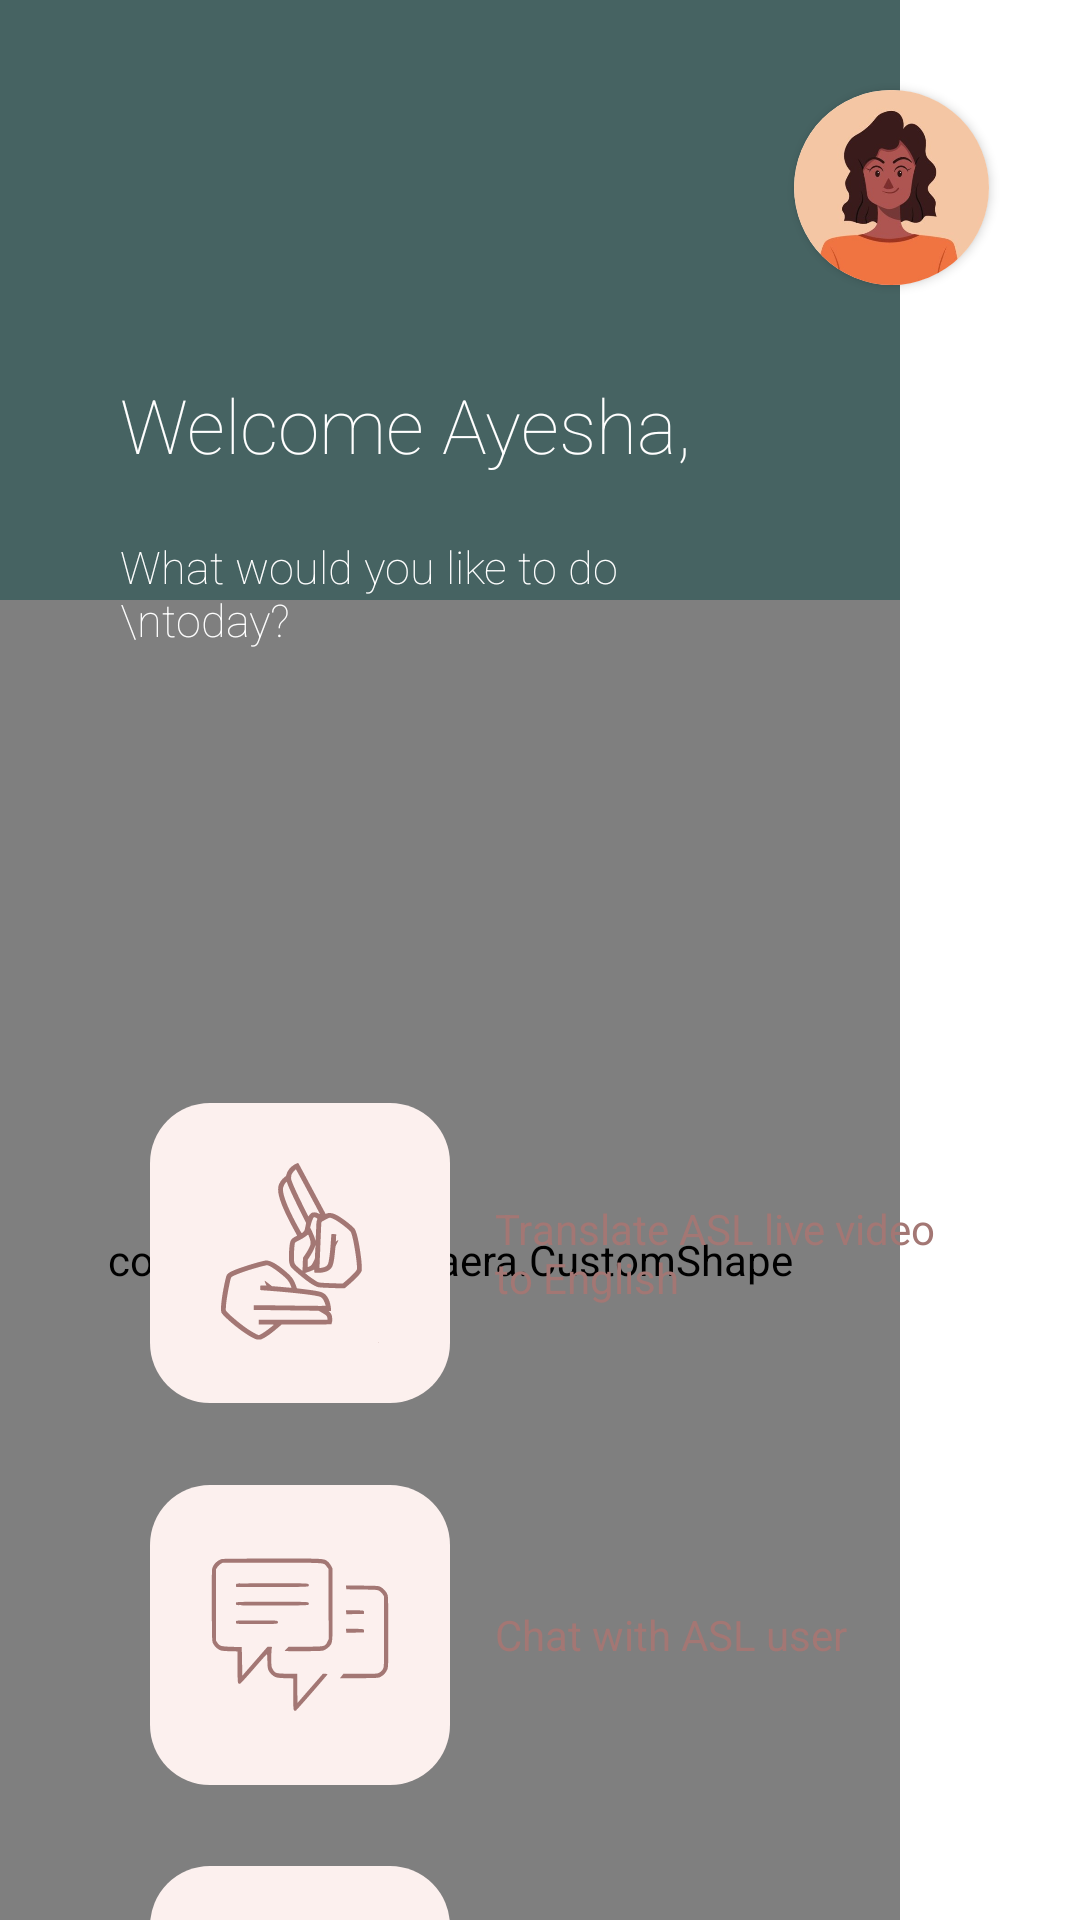

Named icons in this screenshot (1080 x 1920) and their centers, (x,y):
chaticon: (300,1635)
handsign: (300,1253)
